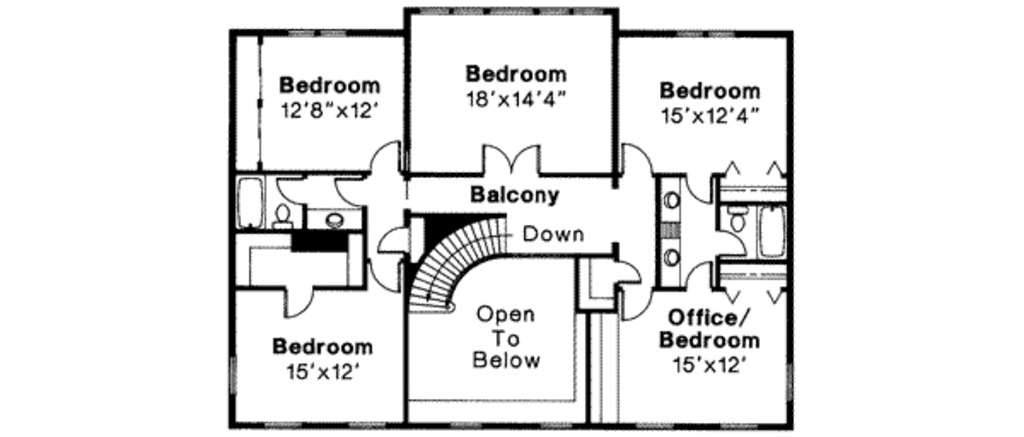door: (475, 138, 545, 179), (366, 259, 408, 298), (366, 139, 405, 176), (617, 284, 653, 323), (618, 140, 655, 176), (279, 287, 318, 320), (331, 172, 368, 206), (716, 226, 750, 263), (277, 173, 309, 209), (680, 260, 713, 290), (612, 257, 648, 284), (377, 226, 409, 255), (685, 173, 714, 204)
large_sink: (723, 206, 753, 240), (270, 199, 295, 237)
small_sink: (303, 206, 367, 231), (659, 175, 682, 229), (659, 239, 681, 292)
stairs: (411, 214, 511, 318)
tub: (753, 204, 789, 263), (238, 173, 266, 231)
